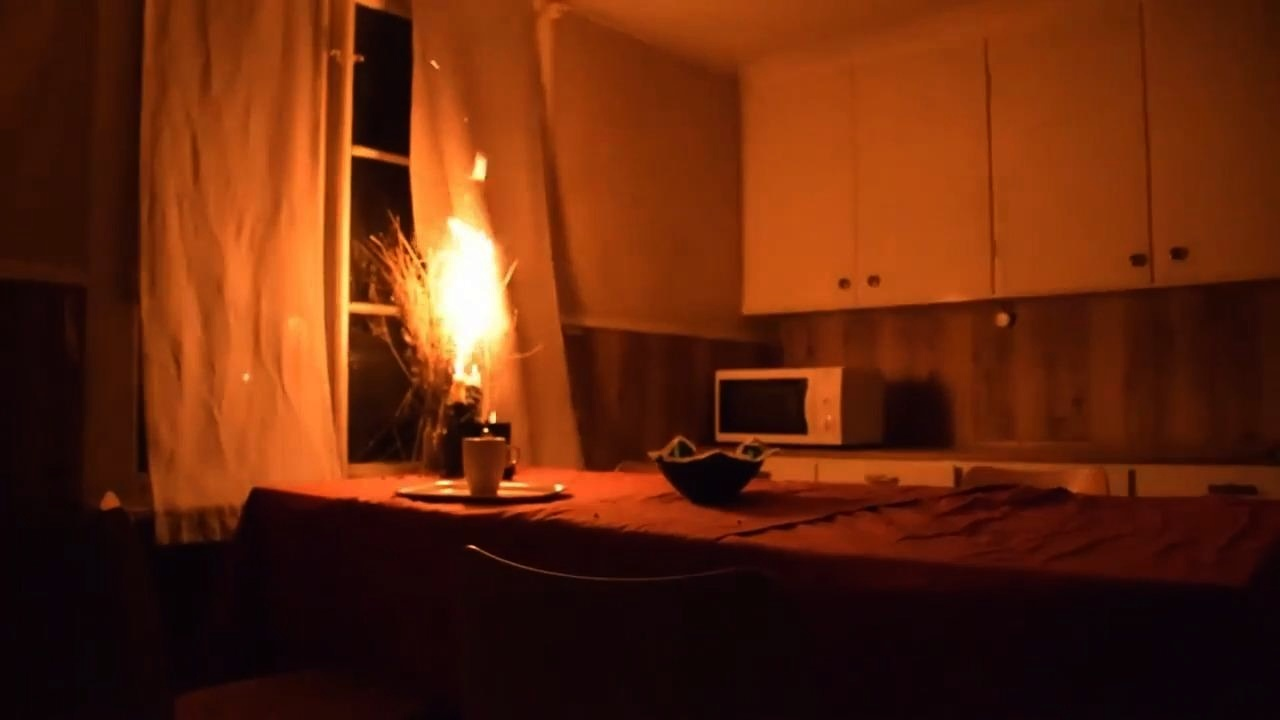fire: (406, 161, 551, 421)
